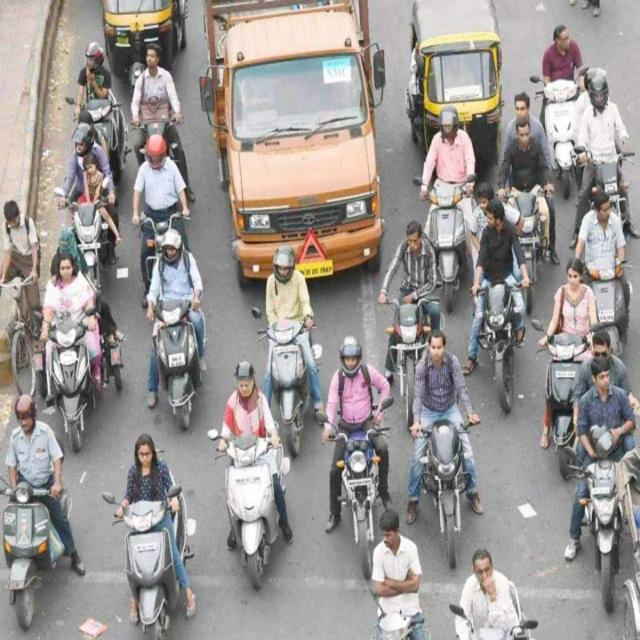bike: (1, 410, 88, 634), (408, 334, 489, 566), (216, 371, 297, 589), (326, 346, 400, 582), (109, 441, 193, 639), (43, 260, 122, 452), (471, 221, 538, 428), (139, 250, 207, 431)
